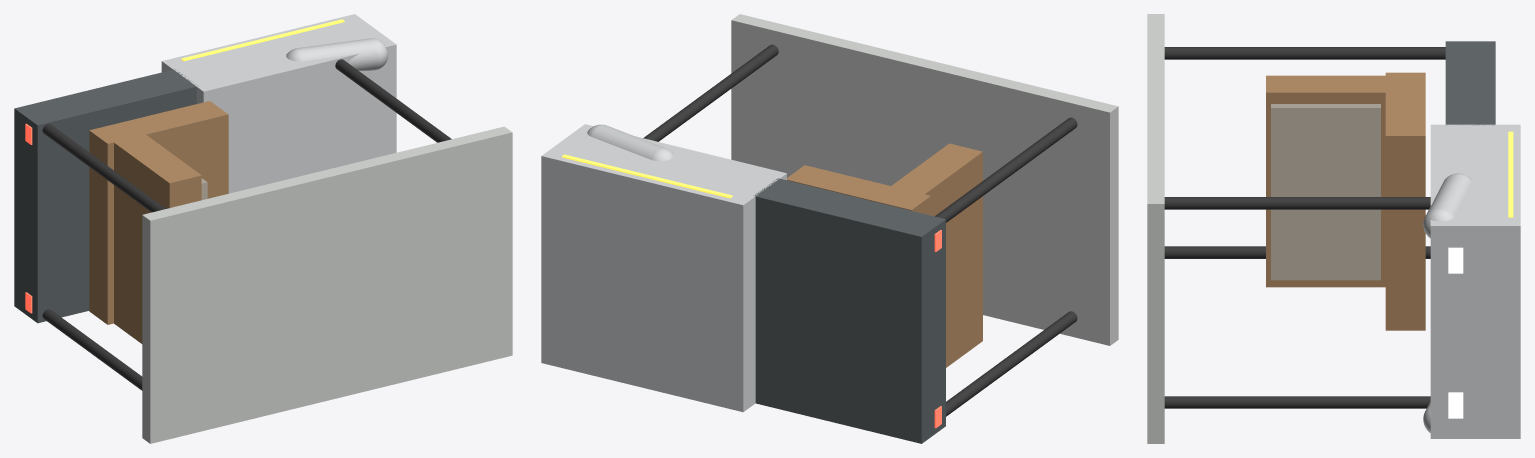
File: vehicle.glb
3 renders of one model, left to right at view 1: azimuth 30°, elevation 25°; view 2: azimuth 150°, elevation 25°; view 3: azimuth 270°, elevation 25°, orthographic. The views are drawn at different scales.
Visible parts, largest first — view 1: roof_visual, body_front_visual, body_floor_visual, seat_visual, seat_back_visual, front_bumper_right_visual, roof_post_rear_right_visual, roof_post_front_right_visual, roof_post_rear_left_visual, side_led_left_visual; view 2: roof_visual, body_front_visual, body_floor_visual, seat_back_visual, seat_visual, roof_post_rear_right_visual, roof_post_rear_left_visual, roof_post_front_right_visual, front_bumper_right_visual, side_led_left_visual; view 3: body_front_visual, seat_back_visual, seat_pad_visual, seat_visual, roof_visual, body_floor_visual, roof_post_rear_right_visual, roof_post_front_right_visual, roof_post_front_left_visual, front_bumper_right_visual, roof_post_rear_left_visual, side_led_left_visual (+2 smaller).
Part boxes in pixels (<box>): roof_visual: <box>142,126,512,443</box>; body_front_visual: <box>161,14,396,193</box>; body_floor_visual: <box>14,69,198,323</box>; seat_visual: <box>89,101,228,324</box>; seat_back_visual: <box>95,122,201,343</box>; front_bumper_right_visual: <box>286,38,388,70</box>; roof_post_rear_right_visual: <box>42,124,165,212</box>; roof_post_front_right_visual: <box>335,59,451,142</box>; roof_post_rear_left_visual: <box>42,309,142,390</box>; side_led_left_visual: <box>181,19,344,61</box>; roof_visual: <box>731,14,1118,345</box>; body_front_visual: <box>541,124,786,412</box>; body_floor_visual: <box>754,178,945,443</box>; seat_back_visual: <box>872,143,982,367</box>; seat_visual: <box>787,165,930,215</box>; roof_post_rear_right_visual: <box>935,117,1077,222</box>; roof_post_rear_left_visual: <box>946,311,1077,416</box>; roof_post_front_right_visual: <box>643,44,778,141</box>; front_bumper_right_visual: <box>587,124,673,161</box>; side_led_left_visual: <box>562,154,732,198</box>; body_front_visual: <box>1430,124,1520,438</box>; seat_back_visual: <box>1266,75,1425,287</box>; seat_pad_visual: <box>1271,104,1380,280</box>; seat_visual: <box>1385,72,1425,330</box>; roof_visual: <box>1147,14,1164,443</box>; body_floor_visual: <box>1445,41,1495,125</box>; roof_post_rear_right_visual: <box>1164,47,1445,59</box>; roof_post_front_right_visual: <box>1164,197,1430,209</box>; roof_post_front_left_visual: <box>1164,396,1430,408</box>; front_bumper_right_visual: <box>1423,173,1472,238</box>; roof_post_rear_left_visual: <box>1164,246,1430,258</box>; side_led_left_visual: <box>1508,131,1513,217</box>.
Bounding box in the file's own units: 1.89 × 1.06 × 1.5.
